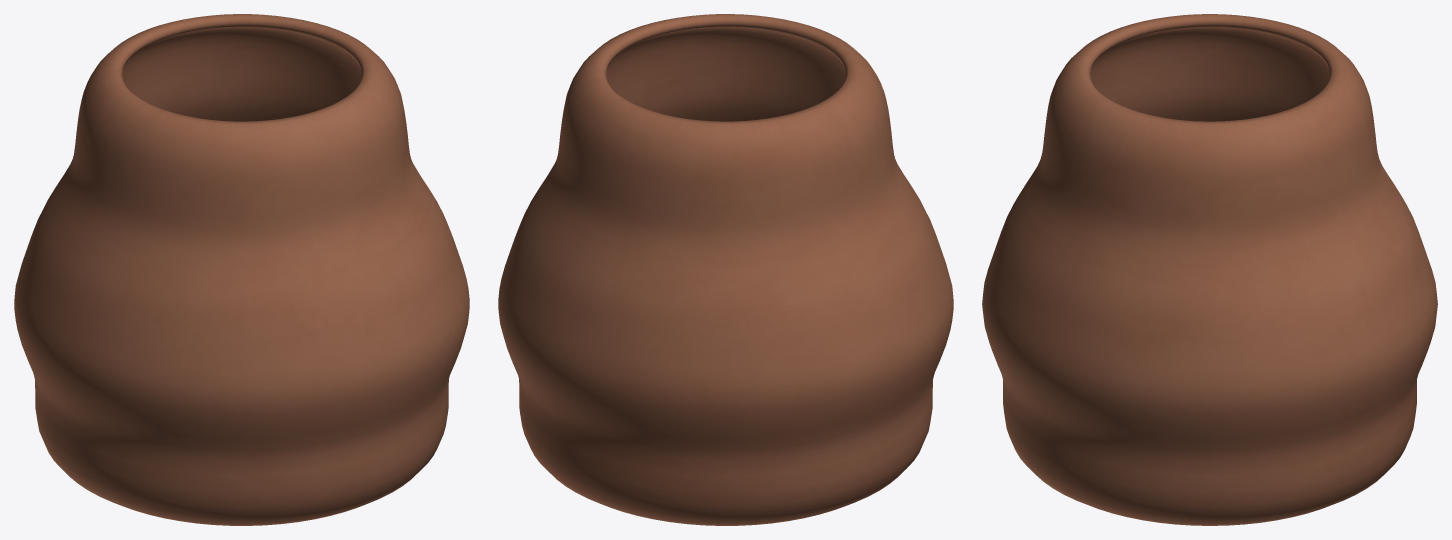
The model's file is pot.obj.
The picture shows the model from 3 angles, left to right: view 1: azimuth 30°, elevation 25°; view 2: azimuth 150°, elevation 25°; view 3: azimuth 270°, elevation 25°; orthographic projection.
Parts seen in each view (by area): view 1: Pot_Plane; view 2: Pot_Plane; view 3: Pot_Plane.
Boxes of the visible parts, x1,y1,x2,y2 form: Pot_Plane: [14, 14, 469, 525]; Pot_Plane: [498, 14, 953, 525]; Pot_Plane: [982, 14, 1437, 525].
Bounding box in the file's own units: 0.6411 × 0.6082 × 0.6411.
Materials: 1 (1 with a texture image).
